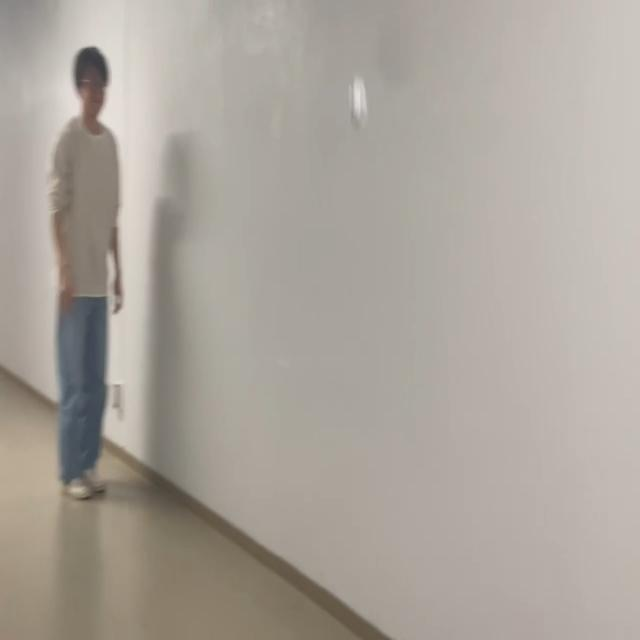paper: (348, 74, 370, 132)
